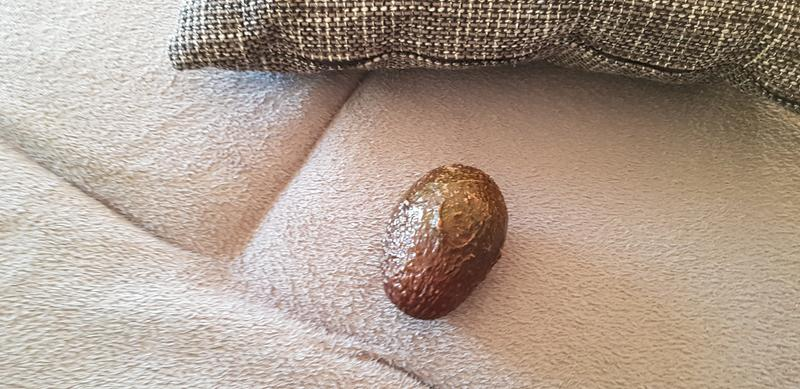Avocado: (364, 154, 513, 323)
